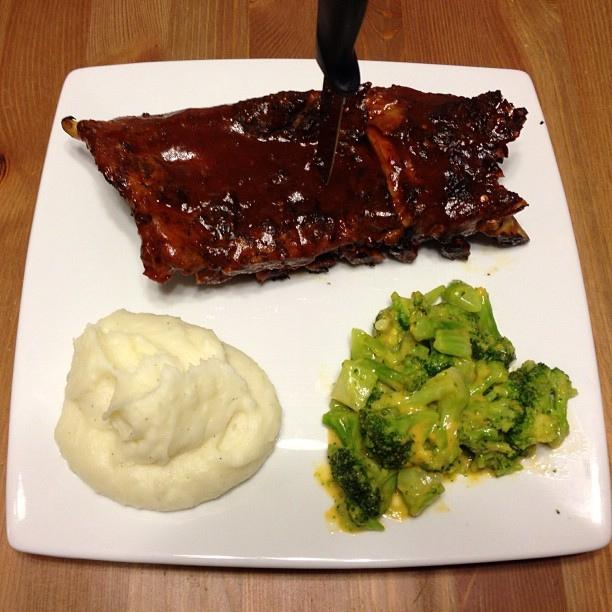broccoli: (360, 367, 470, 473), (458, 360, 525, 477), (510, 362, 577, 451), (328, 447, 398, 518), (470, 286, 518, 368), (355, 355, 431, 392), (386, 285, 446, 331), (410, 310, 466, 341), (336, 498, 386, 532), (396, 330, 430, 364), (424, 339, 454, 376)
